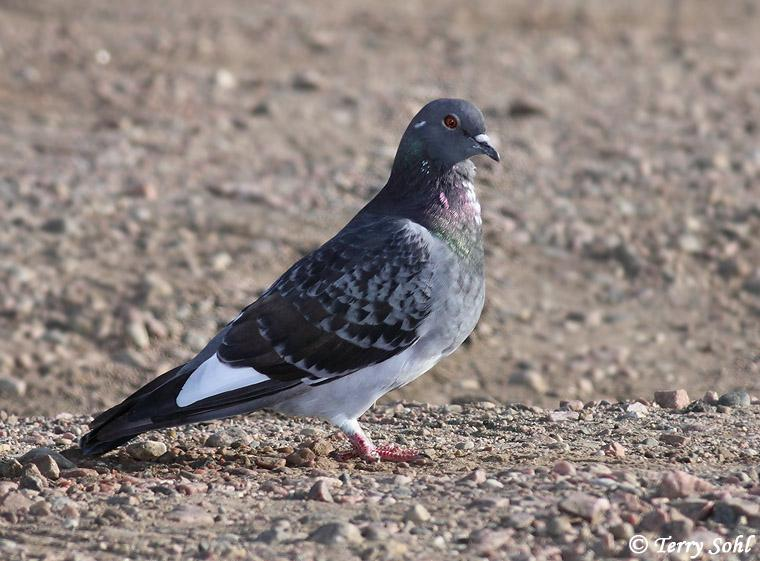Flying Rat: (63, 95, 503, 469)
